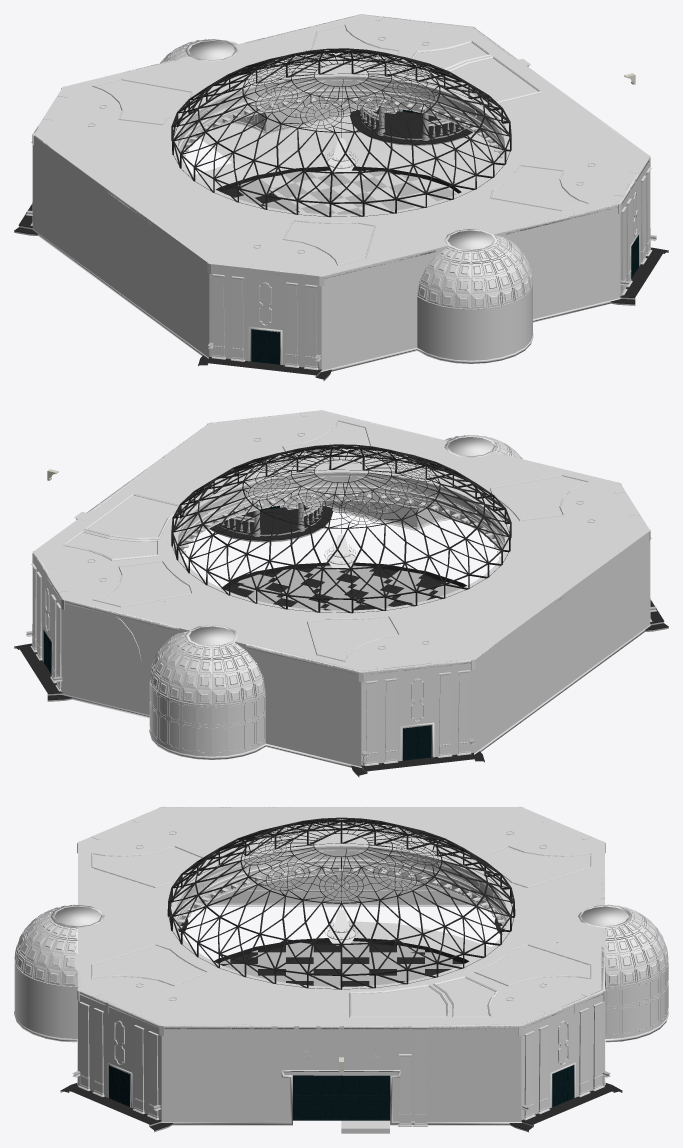
File: GLB_001.glb
3 renders of one model, top to bottom at view 1: azimuth 30°, elevation 25°; view 2: azimuth 150°, elevation 25°; view 3: azimuth 270°, elevation 25°, orthographic.
Parts seen in each view (by area): view 1: External_Walls, Roof_001, Circle.034, Circle.046, Small_Side_Domes, Quarter_Columns, Circle.058, Circle.027, Circle.035, Floor_Trimming, Circle.036, Circle.052 (+10 smaller); view 2: External_Walls, Roof_001, Circle.046, Circle.058, Small_Side_Domes, Quarter_Columns, Circle.027, Floor_Trimming, Circle.036, Circle.057, Plane.097, Circle.052 (+9 smaller); view 3: External_Walls, Roof_001, Circle.058, Small_Side_Domes, Circle.046, Quarter_Columns, Main_Enrance, Floor_Trimming, Circle.035, Circle.052, Plane.097, Circle.036 (+11 smaller).
Boxes of the visible parts, left/top/right/bottom form: External_Walls: left=32, top=14, right=650, bottom=370; Roof_001: left=171, top=48, right=511, bottom=217; Circle.034: left=200, top=114, right=501, bottom=214; Circle.046: left=174, top=75, right=508, bottom=215; Small_Side_Domes: left=160, top=39, right=532, bottom=309; Quarter_Columns: left=30, top=105, right=652, bottom=370; Circle.058: left=216, top=166, right=461, bottom=214; Circle.027: left=14, top=108, right=668, bottom=381; Circle.035: left=195, top=149, right=486, bottom=191; Floor_Trimming: left=32, top=108, right=639, bottom=371; Circle.036: left=179, top=95, right=503, bottom=154; Circle.052: left=92, top=24, right=590, bottom=265; External_Walls: left=32, top=410, right=650, bottom=766; Roof_001: left=171, top=444, right=511, bottom=613; Circle.046: left=175, top=471, right=508, bottom=611; Circle.058: left=221, top=562, right=466, bottom=610; Small_Side_Domes: left=150, top=435, right=522, bottom=705; Quarter_Columns: left=30, top=501, right=652, bottom=766; Circle.027: left=14, top=504, right=668, bottom=777; Floor_Trimming: left=43, top=504, right=650, bottom=767; Circle.036: left=180, top=491, right=503, bottom=550; Circle.057: left=149, top=681, right=265, bottom=753; Plane.097: left=33, top=411, right=628, bottom=674; Circle.052: left=92, top=420, right=590, bottom=661; External_Walls: left=14, top=807, right=668, bottom=1121; Roof_001: left=167, top=817, right=515, bottom=989; Circle.058: left=214, top=938, right=469, bottom=1075; Small_Side_Domes: left=14, top=904, right=668, bottom=987; Circle.046: left=171, top=845, right=511, bottom=987; Quarter_Columns: left=78, top=1002, right=604, bottom=1120; Main_Enrance: left=292, top=1075, right=390, bottom=1120; Floor_Trimming: left=14, top=903, right=668, bottom=1125; Circle.035: left=341, top=921, right=490, bottom=1133; Circle.052: left=91, top=845, right=591, bottom=986; Plane.097: left=78, top=807, right=604, bottom=1029; Circle.036: left=176, top=866, right=506, bottom=925.
Size of the model in its own units: 43.1 by 13.12 by 45.46.
